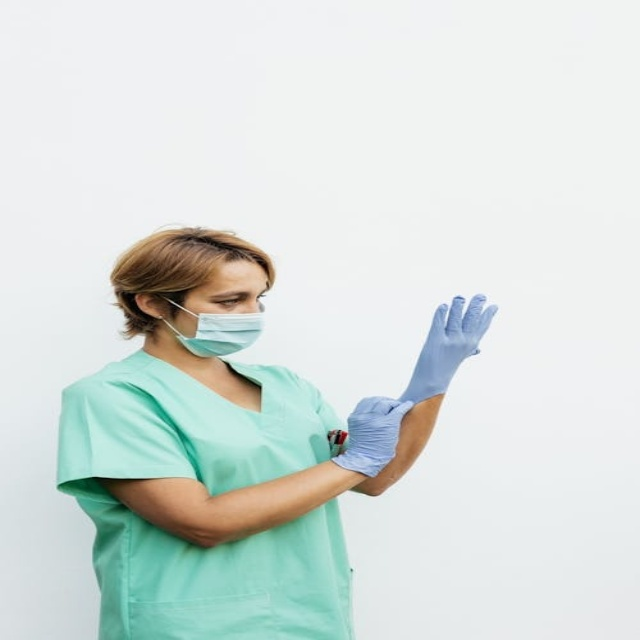Guantes: (399, 293, 498, 404), (331, 395, 414, 477)
Mascara: (158, 294, 265, 357)
Sin_gafas: (198, 287, 270, 310)
